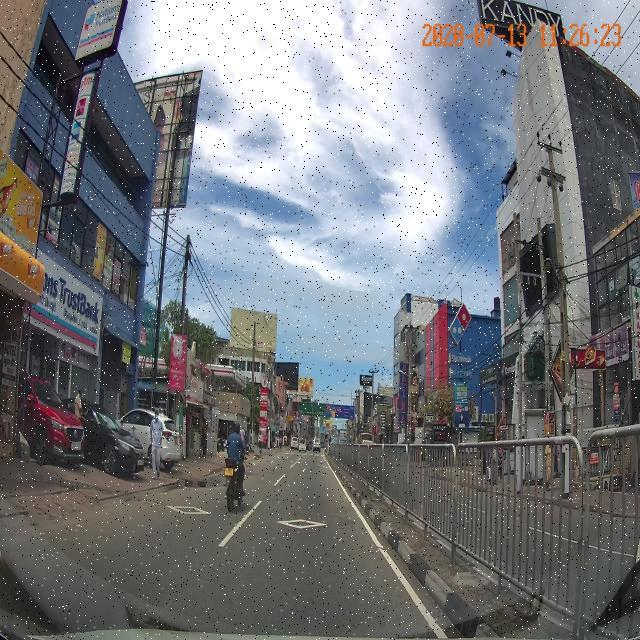diamond: (204, 506, 405, 576)
